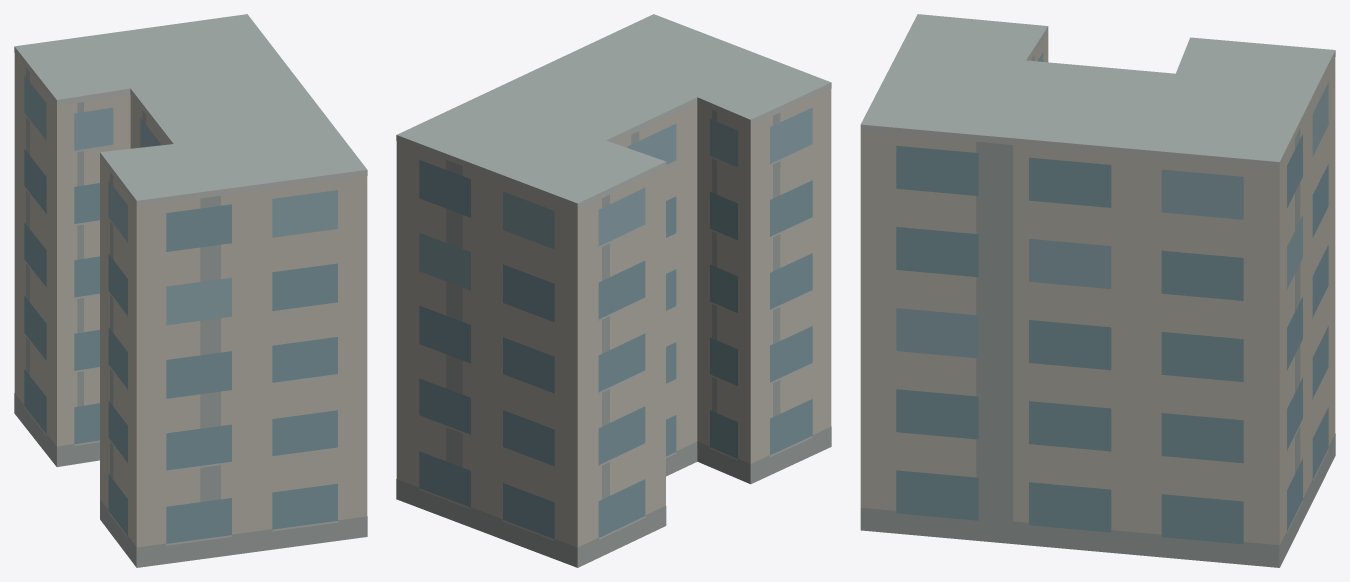
Rendered from survey-upis-33018683.glb.
3 views of the same model, side by side, from view 1: azimuth 30°, elevation 25°; view 2: azimuth 150°, elevation 25°; view 3: azimuth 270°, elevation 25° (orthographic). The views are drawn at different scales.
Parts seen in each view (by area): view 1: survey-upis-33018683.tmp; view 2: survey-upis-33018683.tmp; view 3: survey-upis-33018683.tmp.
Boxes of the visible parts, box(x1,y1,x2,y2) form: survey-upis-33018683.tmp: box(14, 14, 367, 567); survey-upis-33018683.tmp: box(396, 14, 831, 567); survey-upis-33018683.tmp: box(860, 14, 1335, 567).
Size of the model in its own units: 11.28 by 14.4 by 15.28.
